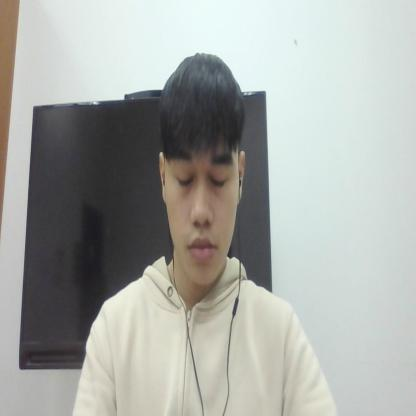Closed-Eyes: (160, 150, 239, 195)
